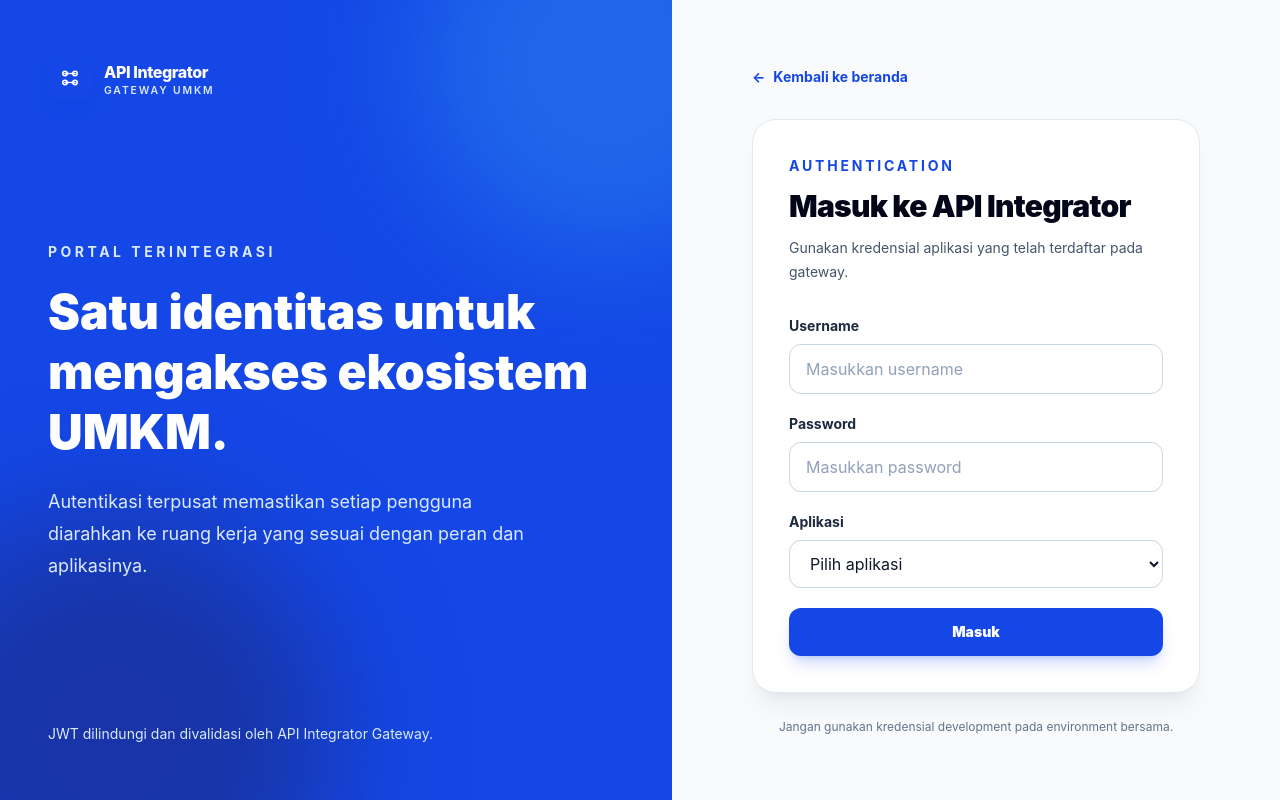
Sprint 4 authentication frontend › rejects a login response whose dashboard does not match its role
The image size is (1280, 800).
Type "admin" into the field labelled "Username". click: (976,368)
box: [789,344,1163,394]
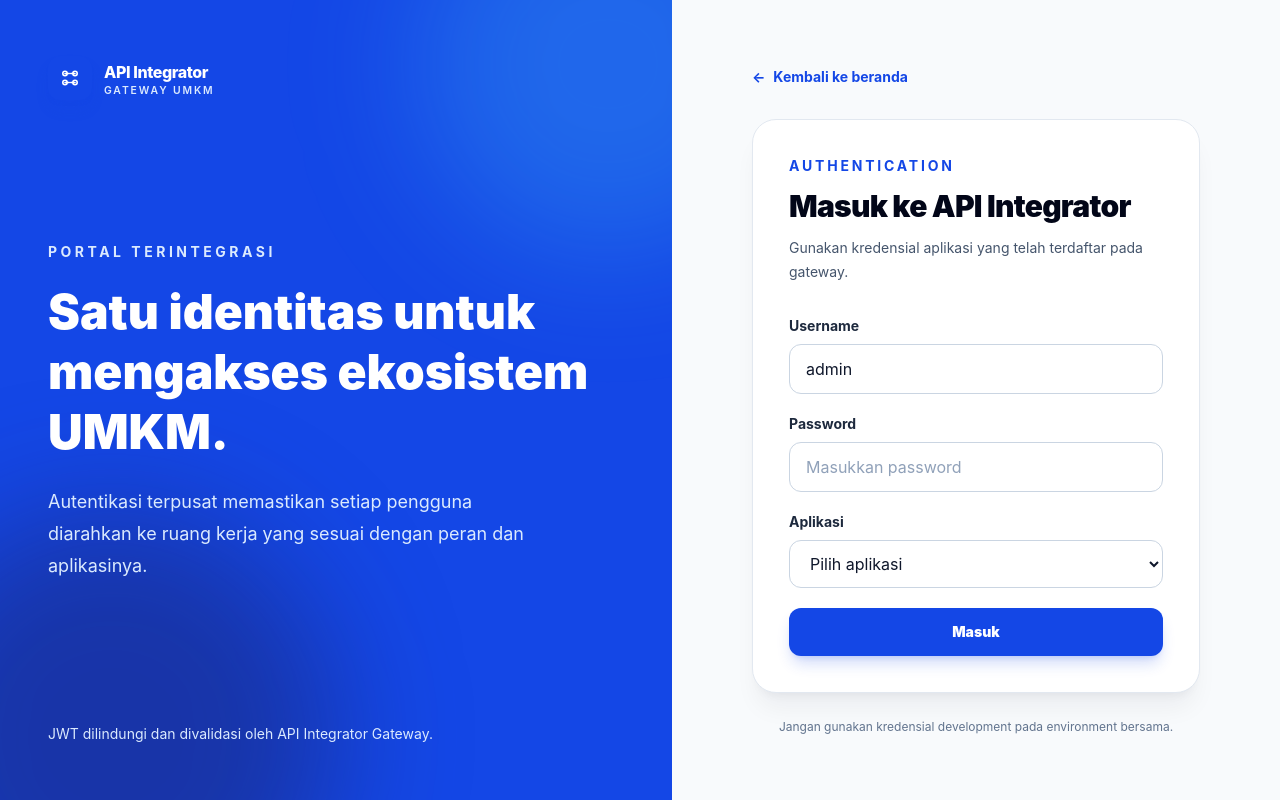
Type "admin-development-password" into the password field labelled "Password". click: (976,466)
box: [789,442,1163,492]
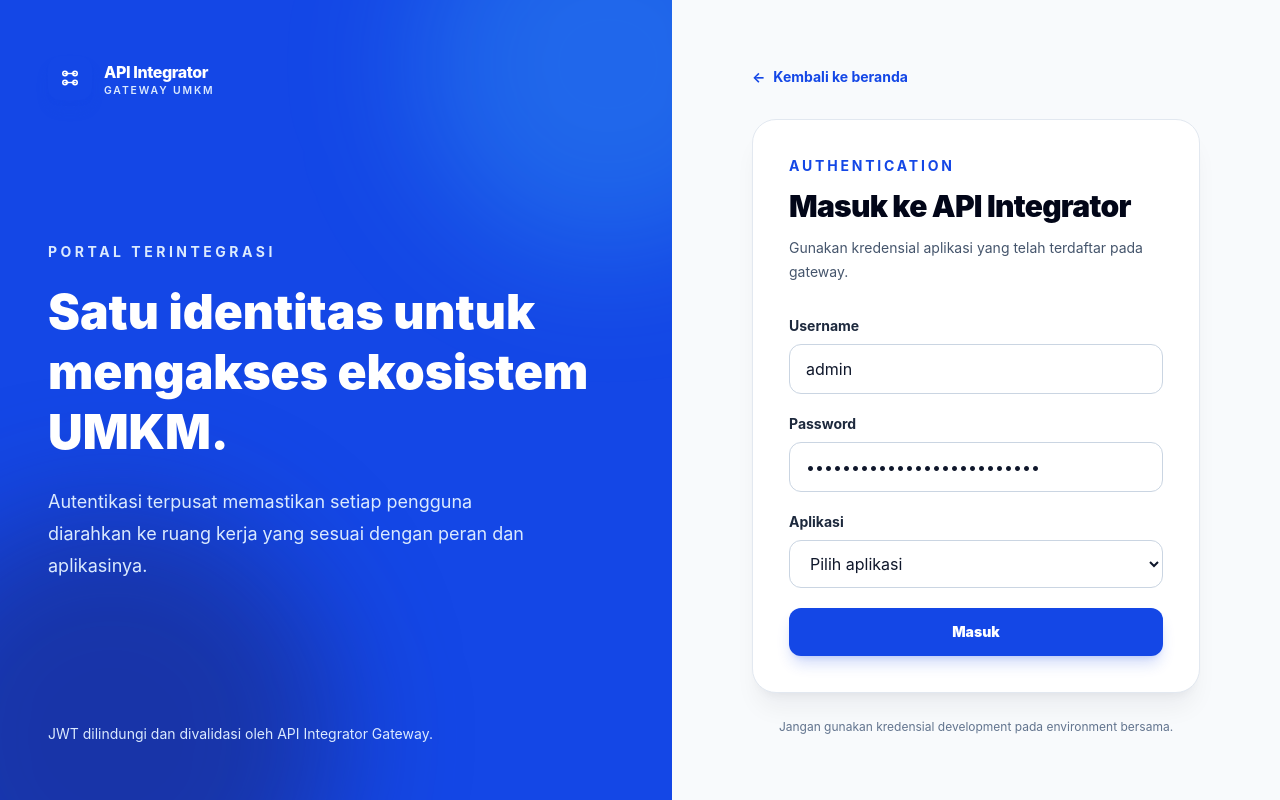
Select "API Gateway" in the dropdown labelled "Aplikasi". click: (976,564)
box: [789,540,1163,588]
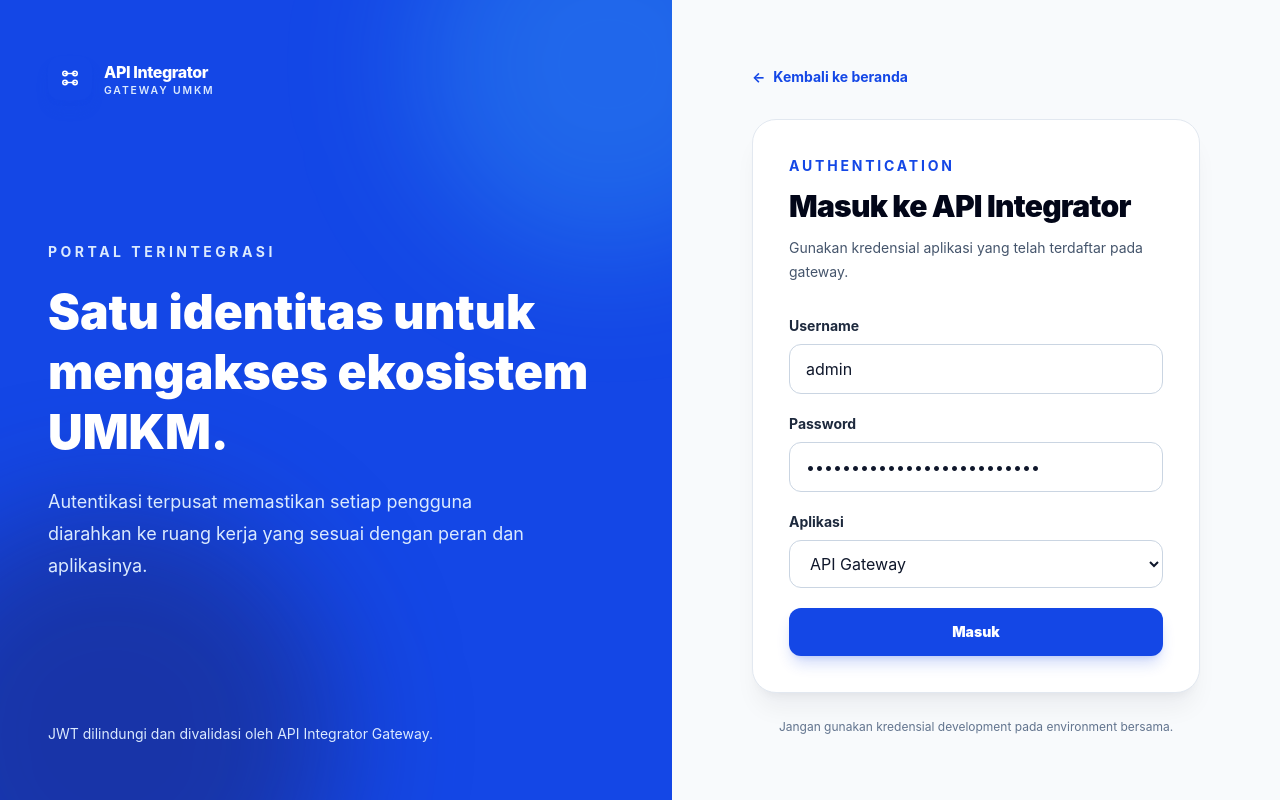
Click the button "Masuk". click: (976,632)
box: [789,608,1163,656]
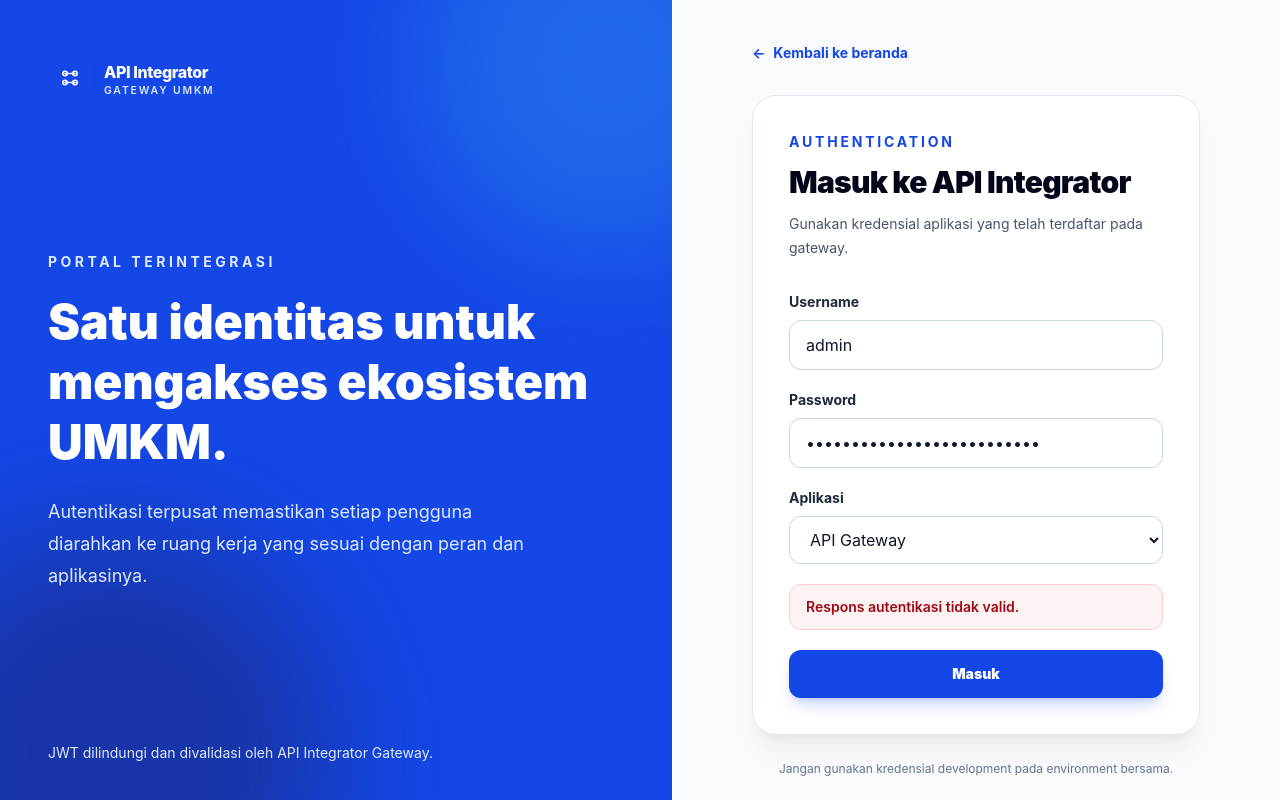
Expected: the message reads "Respons autentikasi tidak valid.", [806,598,1019,615]
